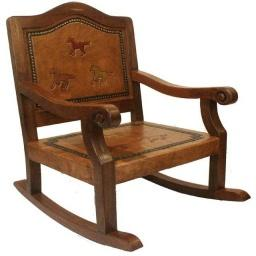Chair: (6, 2, 254, 251)
